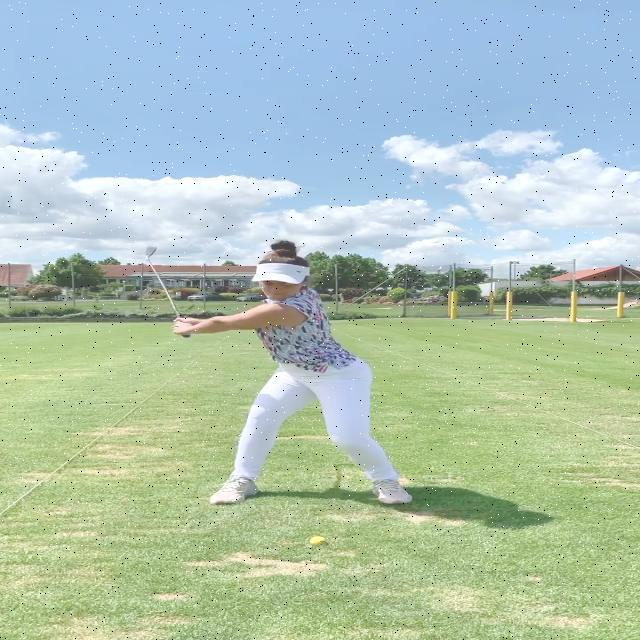ClubHead: (145, 245, 159, 259)
GolfBall: (311, 535, 326, 544)
